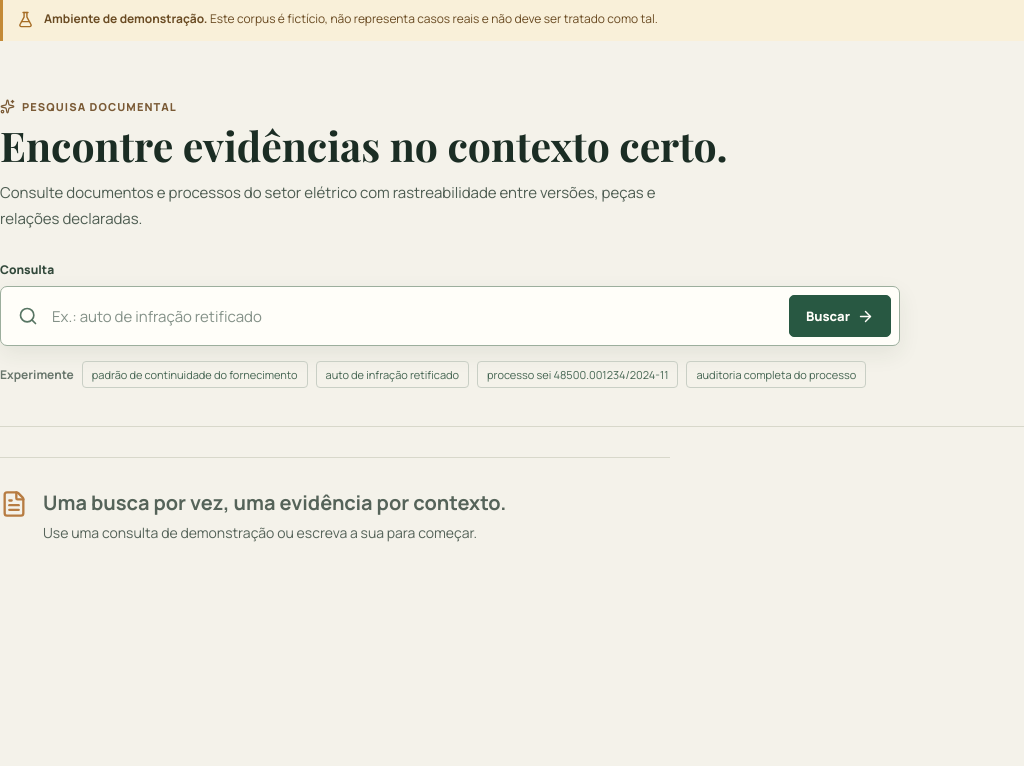
Test: SearchPage › envia POST /v1/feedback com request_id, family_id e o voto ao clicar 👍
Click the button "auto de infração retificado" at (392, 374), box [316,361,469,388]
(page scrolled)
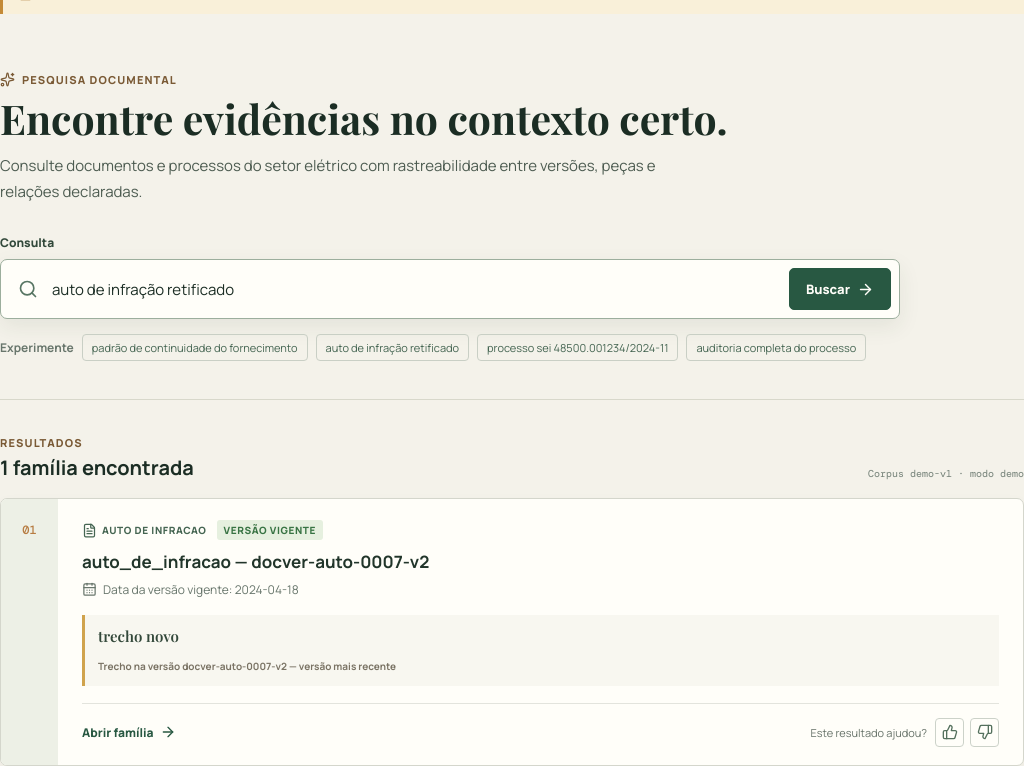
Result: the button named "votar positivamente" is shown
Click the button named "votar positivamente" at (950, 732), box [935,718,964,747]
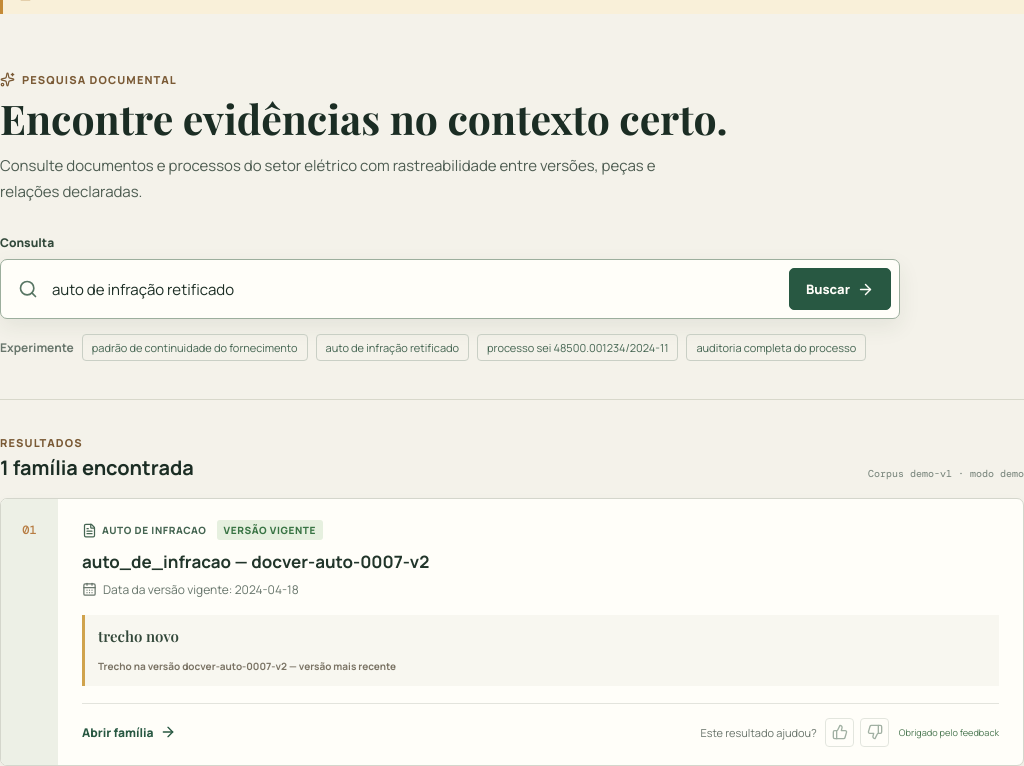
Result: the text "Obrigado pelo feedback" is shown at [899,726,999,739]
Result: the button named "votar positivamente" is disabled at [825,718,854,747]
Result: the button named "votar negativamente" is disabled at [860,718,889,747]
